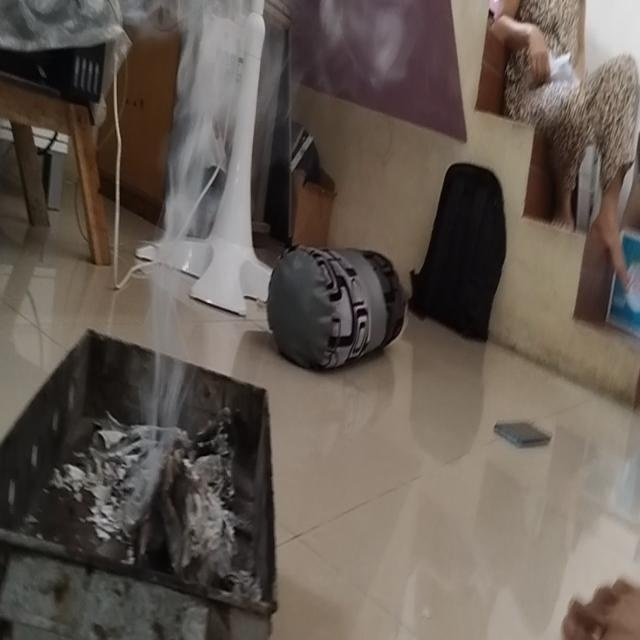smoke: (97, 257, 271, 533), (177, 0, 359, 263)
